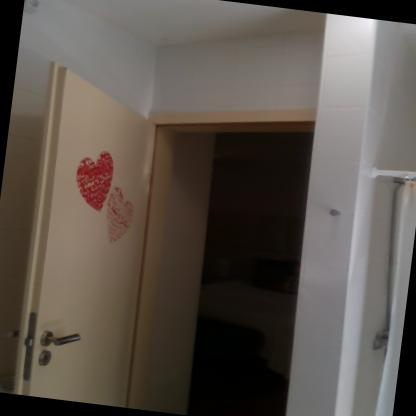open: (0, 48, 316, 415)
